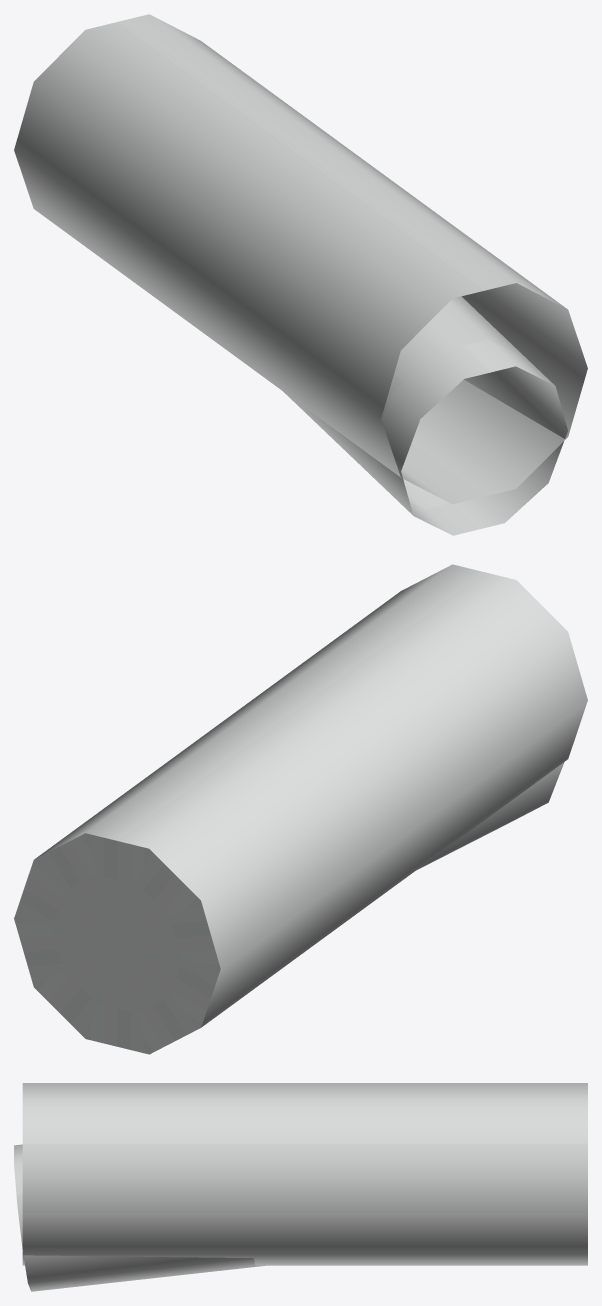
The model's file is trusssignalarm_level10_c15.obj.
3 renders of one model, top to bottom at view 1: azimuth 30°, elevation 25°; view 2: azimuth 150°, elevation 25°; view 3: azimuth 270°, elevation 25°, orthographic. The views are drawn at different scales.
Parts seen in each view (by area): view 1: trusssignalarm_level10_c15; view 2: trusssignalarm_level10_c15; view 3: trusssignalarm_level10_c15.
Part boxes in pixels (x1,y1,x2,y2): trusssignalarm_level10_c15: (14, 14, 587, 535); trusssignalarm_level10_c15: (14, 564, 587, 1054); trusssignalarm_level10_c15: (14, 1083, 587, 1291).
Bounding box in the file's own units: 0.325 × 0.3647 × 1.01.
